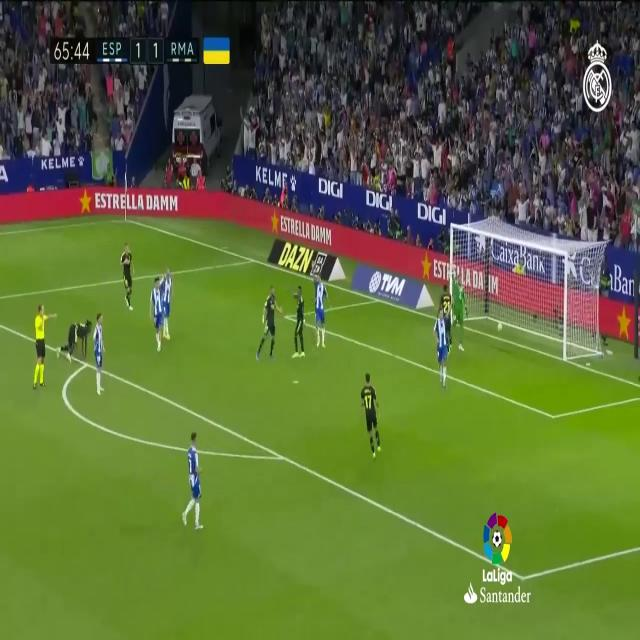Ball: (496, 320, 504, 333)
GoalKeeper: (449, 266, 470, 351)
Referee: (32, 303, 58, 391)
TEAM 1: (182, 429, 205, 530), (311, 259, 330, 350), (150, 264, 165, 352), (433, 307, 449, 389), (92, 311, 107, 397), (161, 256, 174, 341)
TEAM 2: (256, 285, 283, 362), (360, 370, 382, 460), (55, 315, 93, 366), (291, 281, 307, 360), (438, 282, 454, 358), (120, 239, 136, 313)
